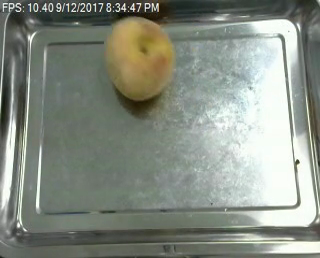Peach: (105, 16, 175, 100)
